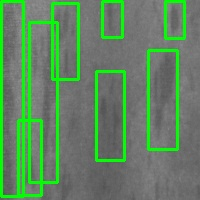inclusion: (29, 22, 57, 182), (1, 1, 23, 196), (148, 50, 177, 149), (96, 72, 124, 160), (52, 3, 78, 79), (18, 120, 41, 195), (102, 1, 122, 37), (165, 1, 184, 38)
